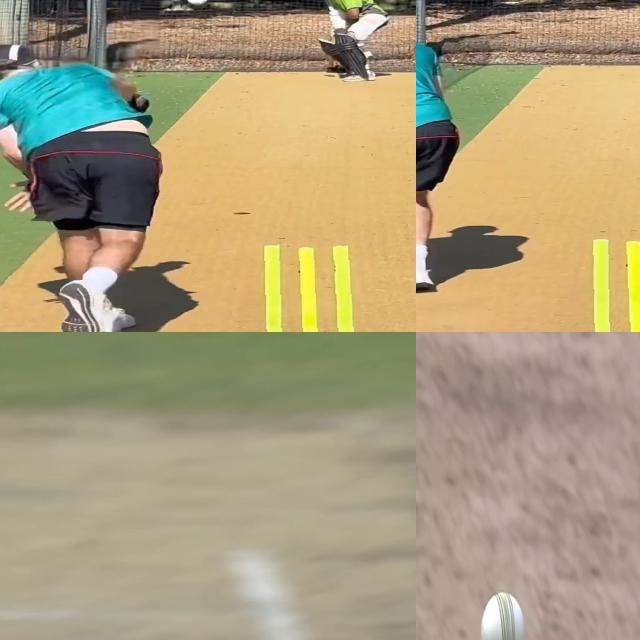Cricket ball: (479, 588, 526, 640), (183, 0, 210, 7)
Stumps: (244, 244, 372, 332), (580, 238, 640, 332)
